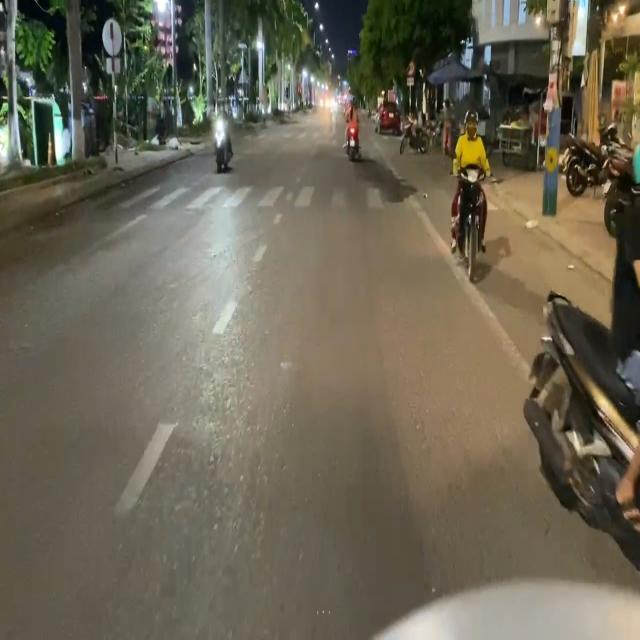walk-crossing: (120, 182, 448, 214)
